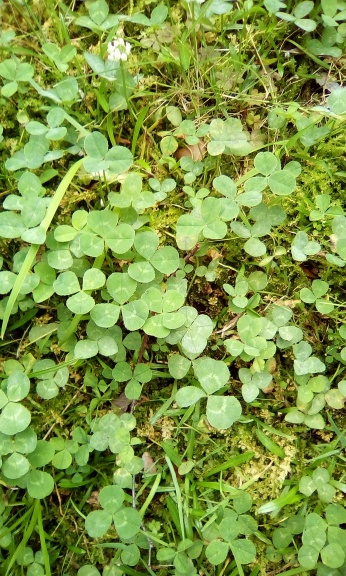4leaf: (141, 287, 186, 339)
